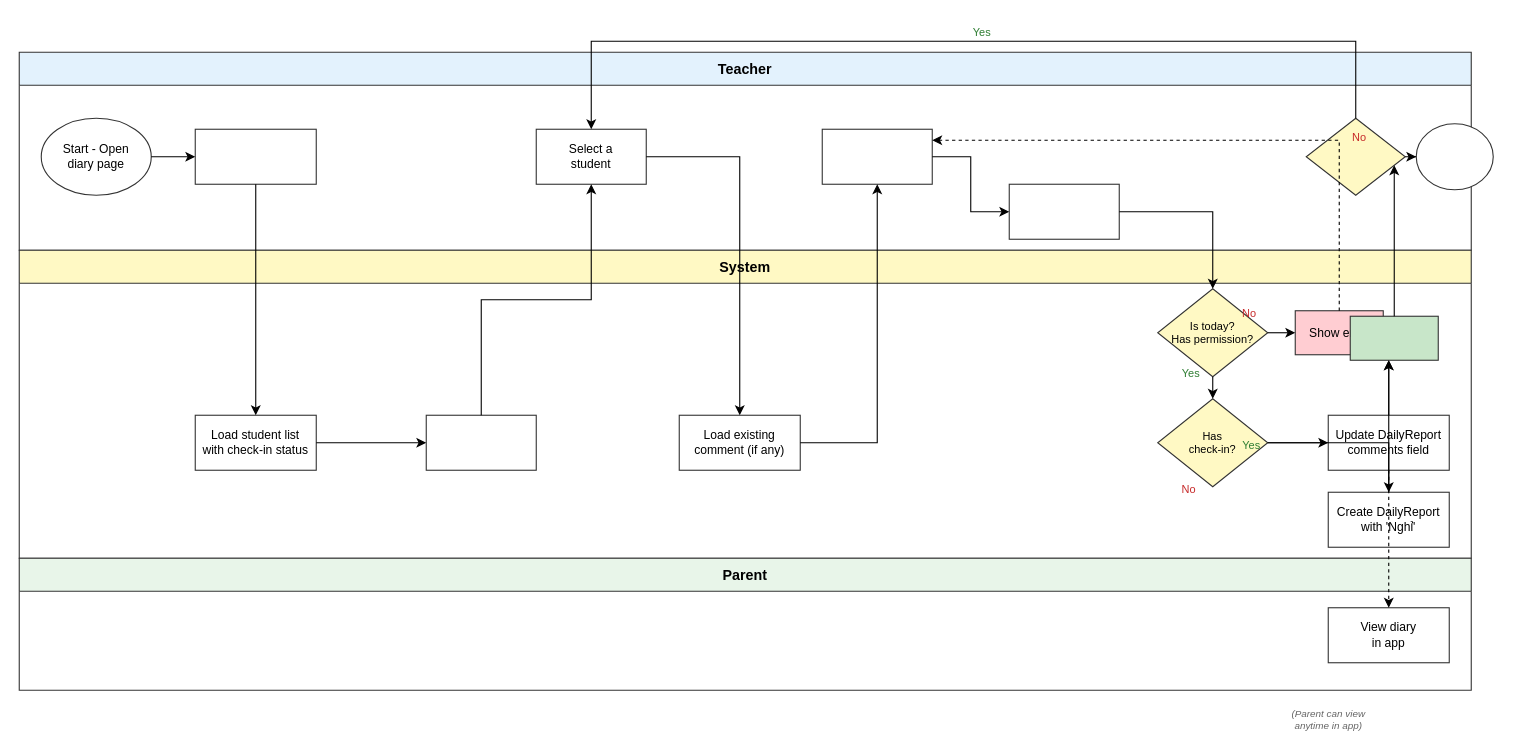
This 1513x752 diagram has some shape labels left out. The shapes that lost their labels are listed below. From the top down, each one's box as (x1, y1, x2, y2) in pixels, then its label:
(194, 128, 316, 184): Select class and date (today)
(821, 128, 932, 184): Write diary comment
(1305, 117, 1405, 195): More students?
(1415, 123, 1493, 190): Done
(1008, 183, 1119, 239): Click Save
(1349, 315, 1438, 360): Show success
(425, 414, 536, 470): Display student list
